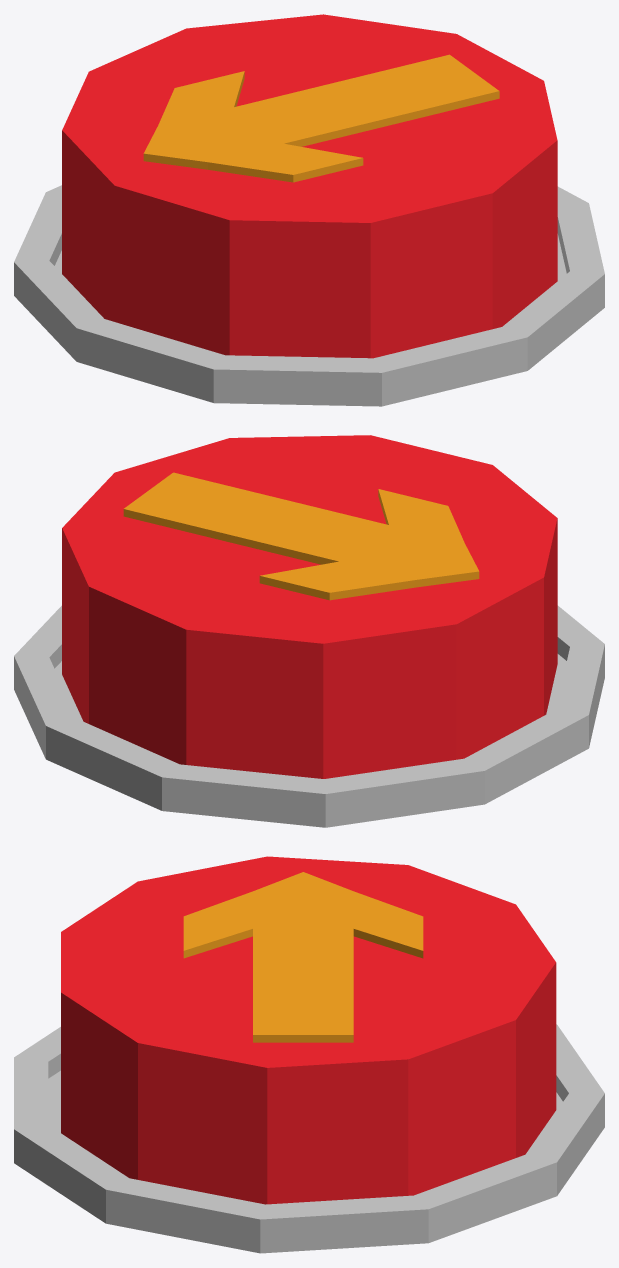
Rendered from ButtonRefinary.fbx.
3 views of the same model, one above another, from view 1: azimuth 30°, elevation 25°; view 2: azimuth 150°, elevation 25°; view 3: azimuth 270°, elevation 25° (orthographic).
Visible parts, largest first — view 1: Buttom, ButtonBase; view 2: Buttom, ButtonBase; view 3: Buttom, ButtonBase.
Part boxes in pixels (box(x1,y1,x2,y2)): Buttom: box(62, 14, 557, 358); ButtonBase: box(14, 185, 604, 406); Buttom: box(62, 435, 557, 778); ButtonBase: box(14, 605, 604, 827); Buttom: box(61, 856, 556, 1204); ButtonBase: box(14, 1024, 604, 1253).
Size of the model in its own units: 12.19 by 3.89 by 12.07.
1 material, 1 textured.
